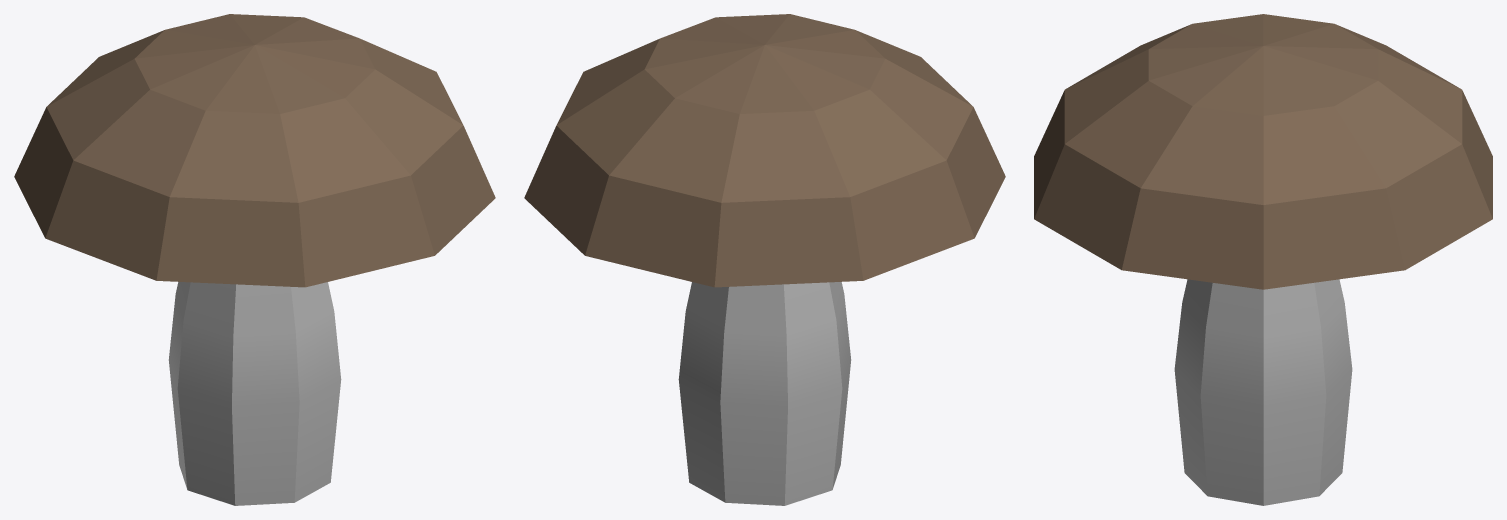
File: mushroom002.fbx
3 renders of one model, left to right at view 1: azimuth 30°, elevation 25°; view 2: azimuth 150°, elevation 25°; view 3: azimuth 270°, elevation 25°, orthographic.
Parts seen in each view (by area): view 1: mushroom002; view 2: mushroom002; view 3: mushroom002.
Boxes of the visible parts, x1=… form: mushroom002: x1=14, y1=14, x2=495, y2=505; mushroom002: x1=524, y1=14, x2=1005, y2=505; mushroom002: x1=1034, y1=14, x2=1492, y2=505.
Size of the model in its own units: 6.19 by 5.88 by 6.04.
